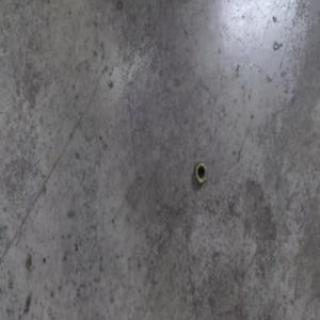Nuttrack_idkeyframe: (194, 159, 207, 185)
